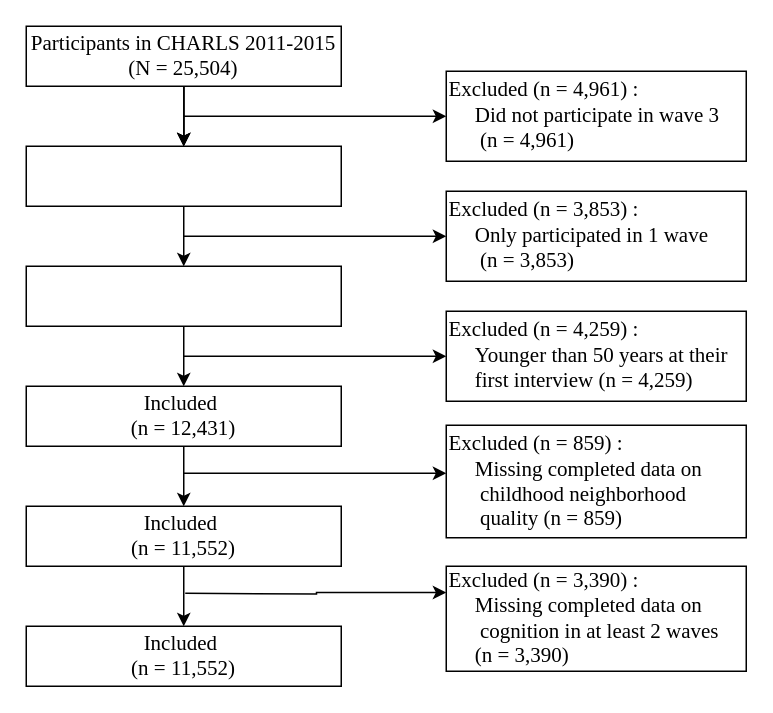
Image size: 773x713. Some labels were removed from this diagram. Here are the shapes that lost their labels. From the top down, the centre of each, then its label:
point 183,175: Included (n = 20,543)
point 183,295: Included (n = 16,690)
